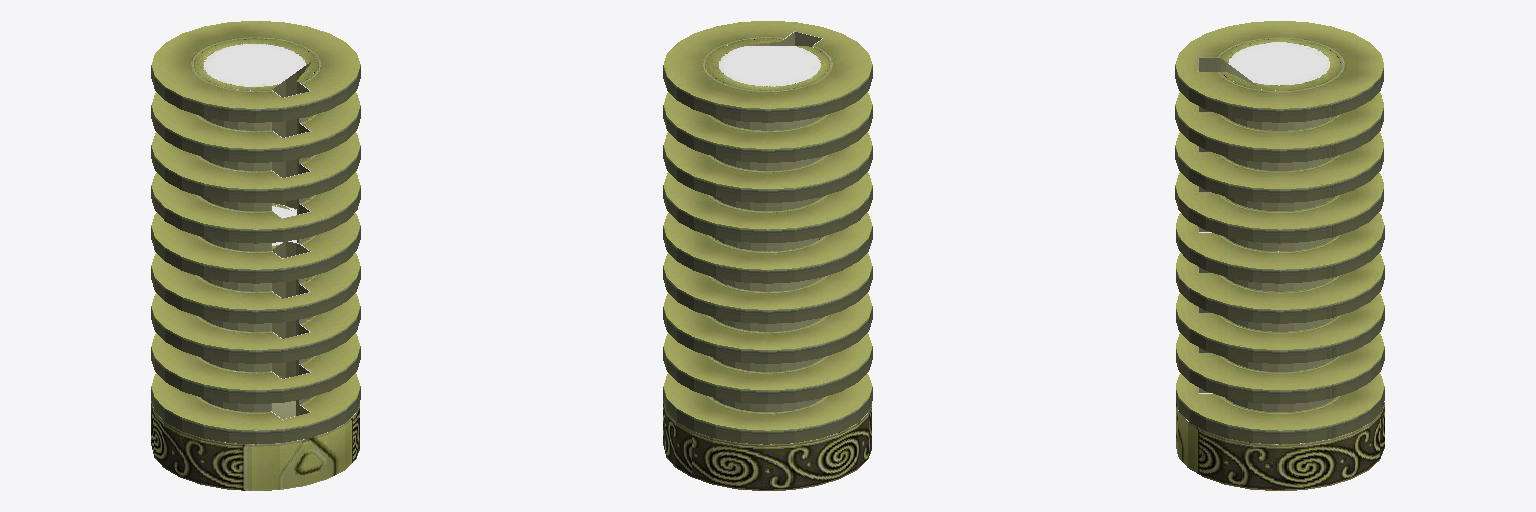
The picture shows the model from 3 angles: view 1: azimuth 30°, elevation 25°; view 2: azimuth 150°, elevation 25°; view 3: azimuth 270°, elevation 25°; orthographic projection.
Parts seen in each view (by area): view 1: Mesh1 Model, Mesh5 Model, Mesh3 Model, Mesh2 Model, Mesh6 Model, Mesh7 Model, Mesh4 Model; view 2: Mesh1 Model, Mesh5 Model, Mesh6 Model, Mesh3 Model, Mesh2 Model, Mesh4 Model, Mesh7 Model; view 3: Mesh1 Model, Mesh5 Model, Mesh3 Model, Mesh6 Model, Mesh2 Model, Mesh4 Model, Mesh7 Model.
Boxes of the visible parts, box(x1,y1,x2,y2) form: Mesh1 Model: box(151, 203, 360, 490); Mesh5 Model: box(151, 21, 360, 251); Mesh3 Model: box(151, 253, 360, 323); Mesh2 Model: box(151, 293, 360, 363); Mesh6 Model: box(151, 92, 360, 162); Mesh7 Model: box(151, 132, 360, 202); Mesh4 Model: box(151, 333, 360, 403); Mesh1 Model: box(663, 213, 872, 490); Mesh5 Model: box(663, 21, 872, 250); Mesh6 Model: box(663, 92, 872, 162); Mesh3 Model: box(663, 253, 872, 323); Mesh2 Model: box(663, 293, 872, 363); Mesh4 Model: box(663, 333, 872, 403); Mesh7 Model: box(663, 132, 872, 202); Mesh1 Model: box(1176, 213, 1384, 490); Mesh5 Model: box(1175, 21, 1383, 250); Mesh3 Model: box(1176, 253, 1384, 323); Mesh6 Model: box(1175, 92, 1383, 162); Mesh2 Model: box(1176, 293, 1384, 363); Mesh4 Model: box(1176, 333, 1384, 403); Mesh7 Model: box(1175, 132, 1383, 202).
Size of the model in its own units: 337 by 679 by 337.
1 materials, 1 textured.